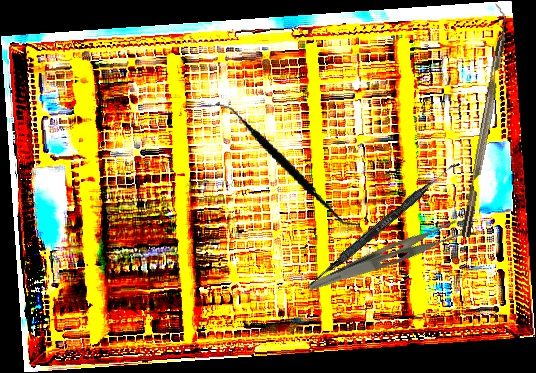Chopper: (449, 3, 515, 238)
Dressing Forceps: (307, 209, 471, 309)
Spatula Surgical: (196, 100, 380, 229), (307, 156, 461, 291)
